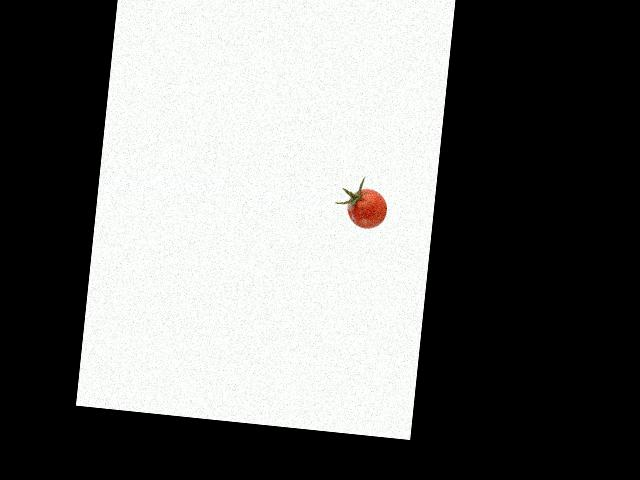tomato: (345, 187, 389, 231)
